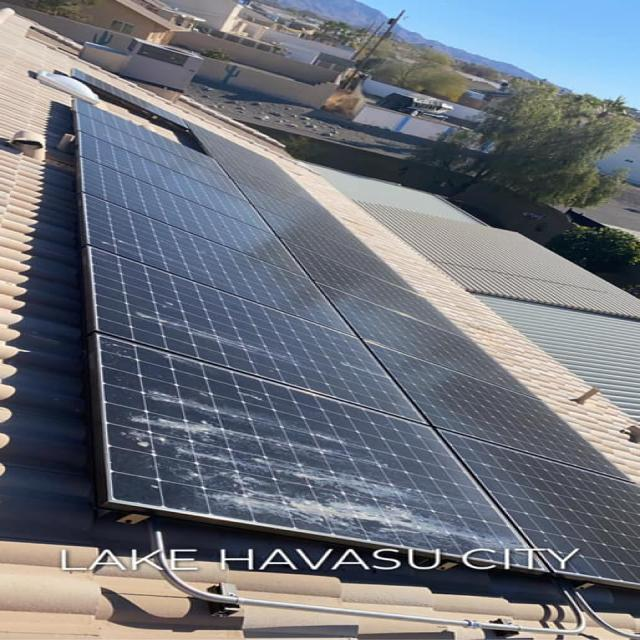faulty: (103, 252, 548, 575)
